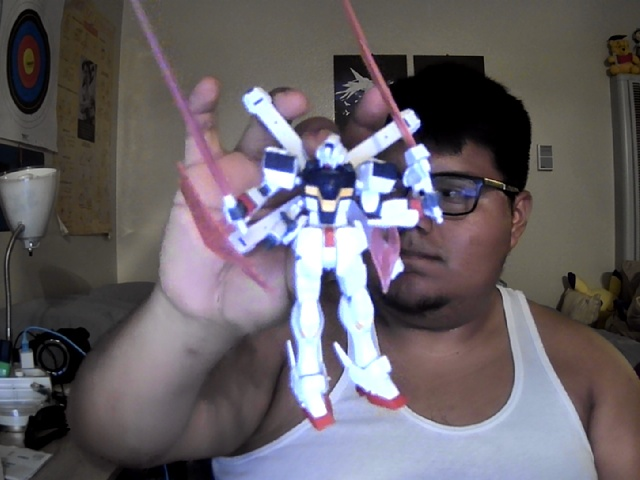Crossbones: (129, 1, 445, 431)
